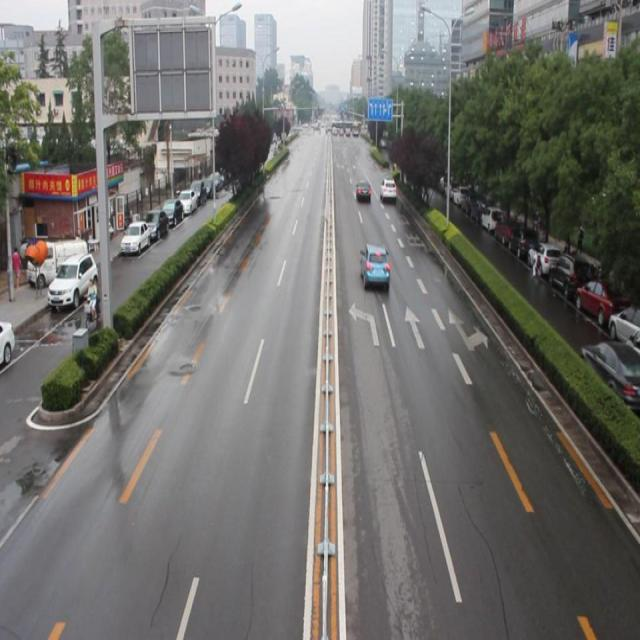car: (359, 243, 390, 288), (355, 177, 371, 200), (381, 177, 396, 199)
